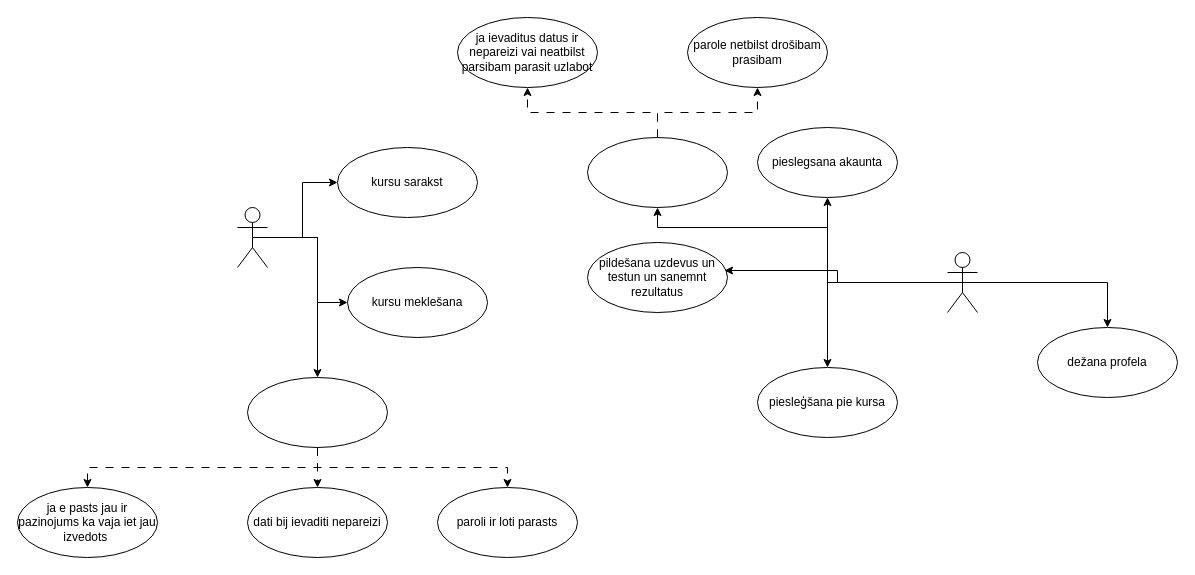
Image size: 1195x575. Some labels were removed from this diagram. The shapes that lost their labels are listed below. From the top down, each one's centre as x and y in pixels, then its label:
pixel 657 172: redeeana profilu
pixel 252 237: viesis
pixel 962 282: reģistretajsj user
pixel 317 412: sakuma redestrešana proces
